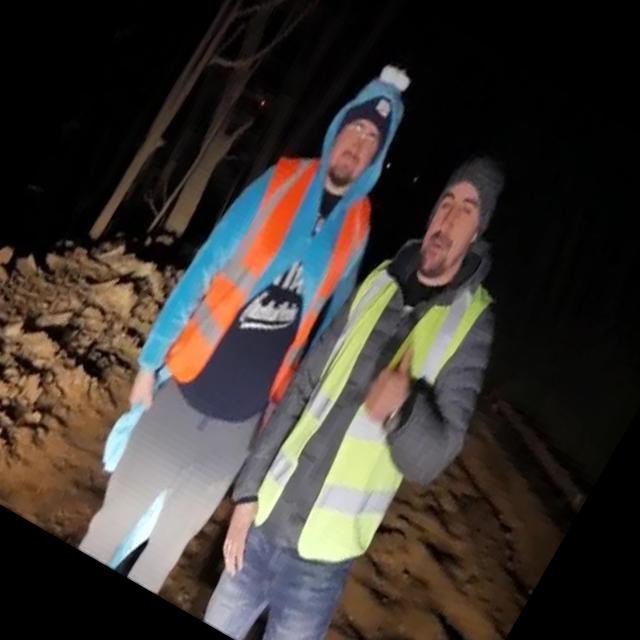safety_vest: (226, 233, 511, 587), (158, 149, 384, 427)
